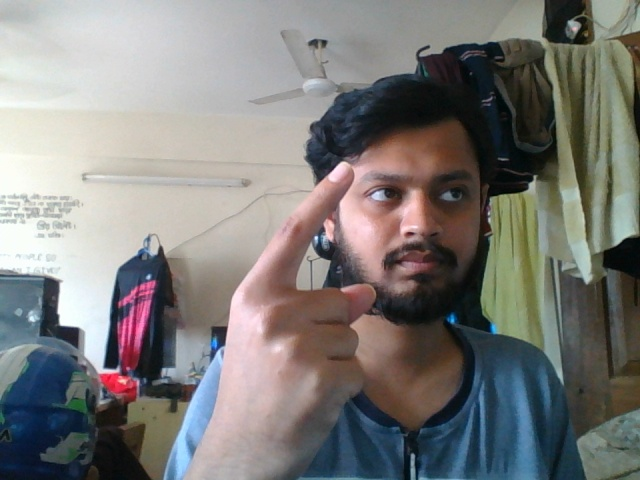u: (218, 157, 380, 464)
